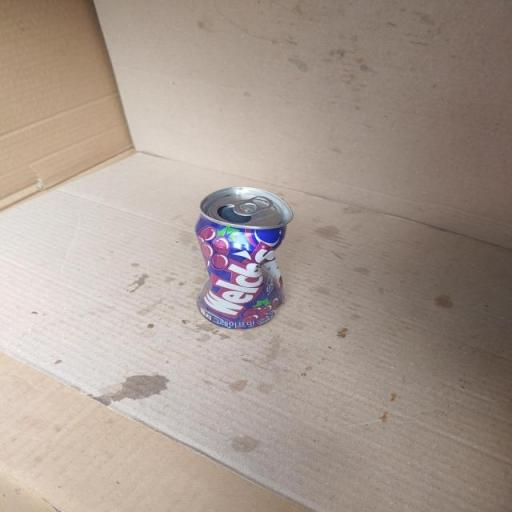metal: (172, 171, 338, 357)
